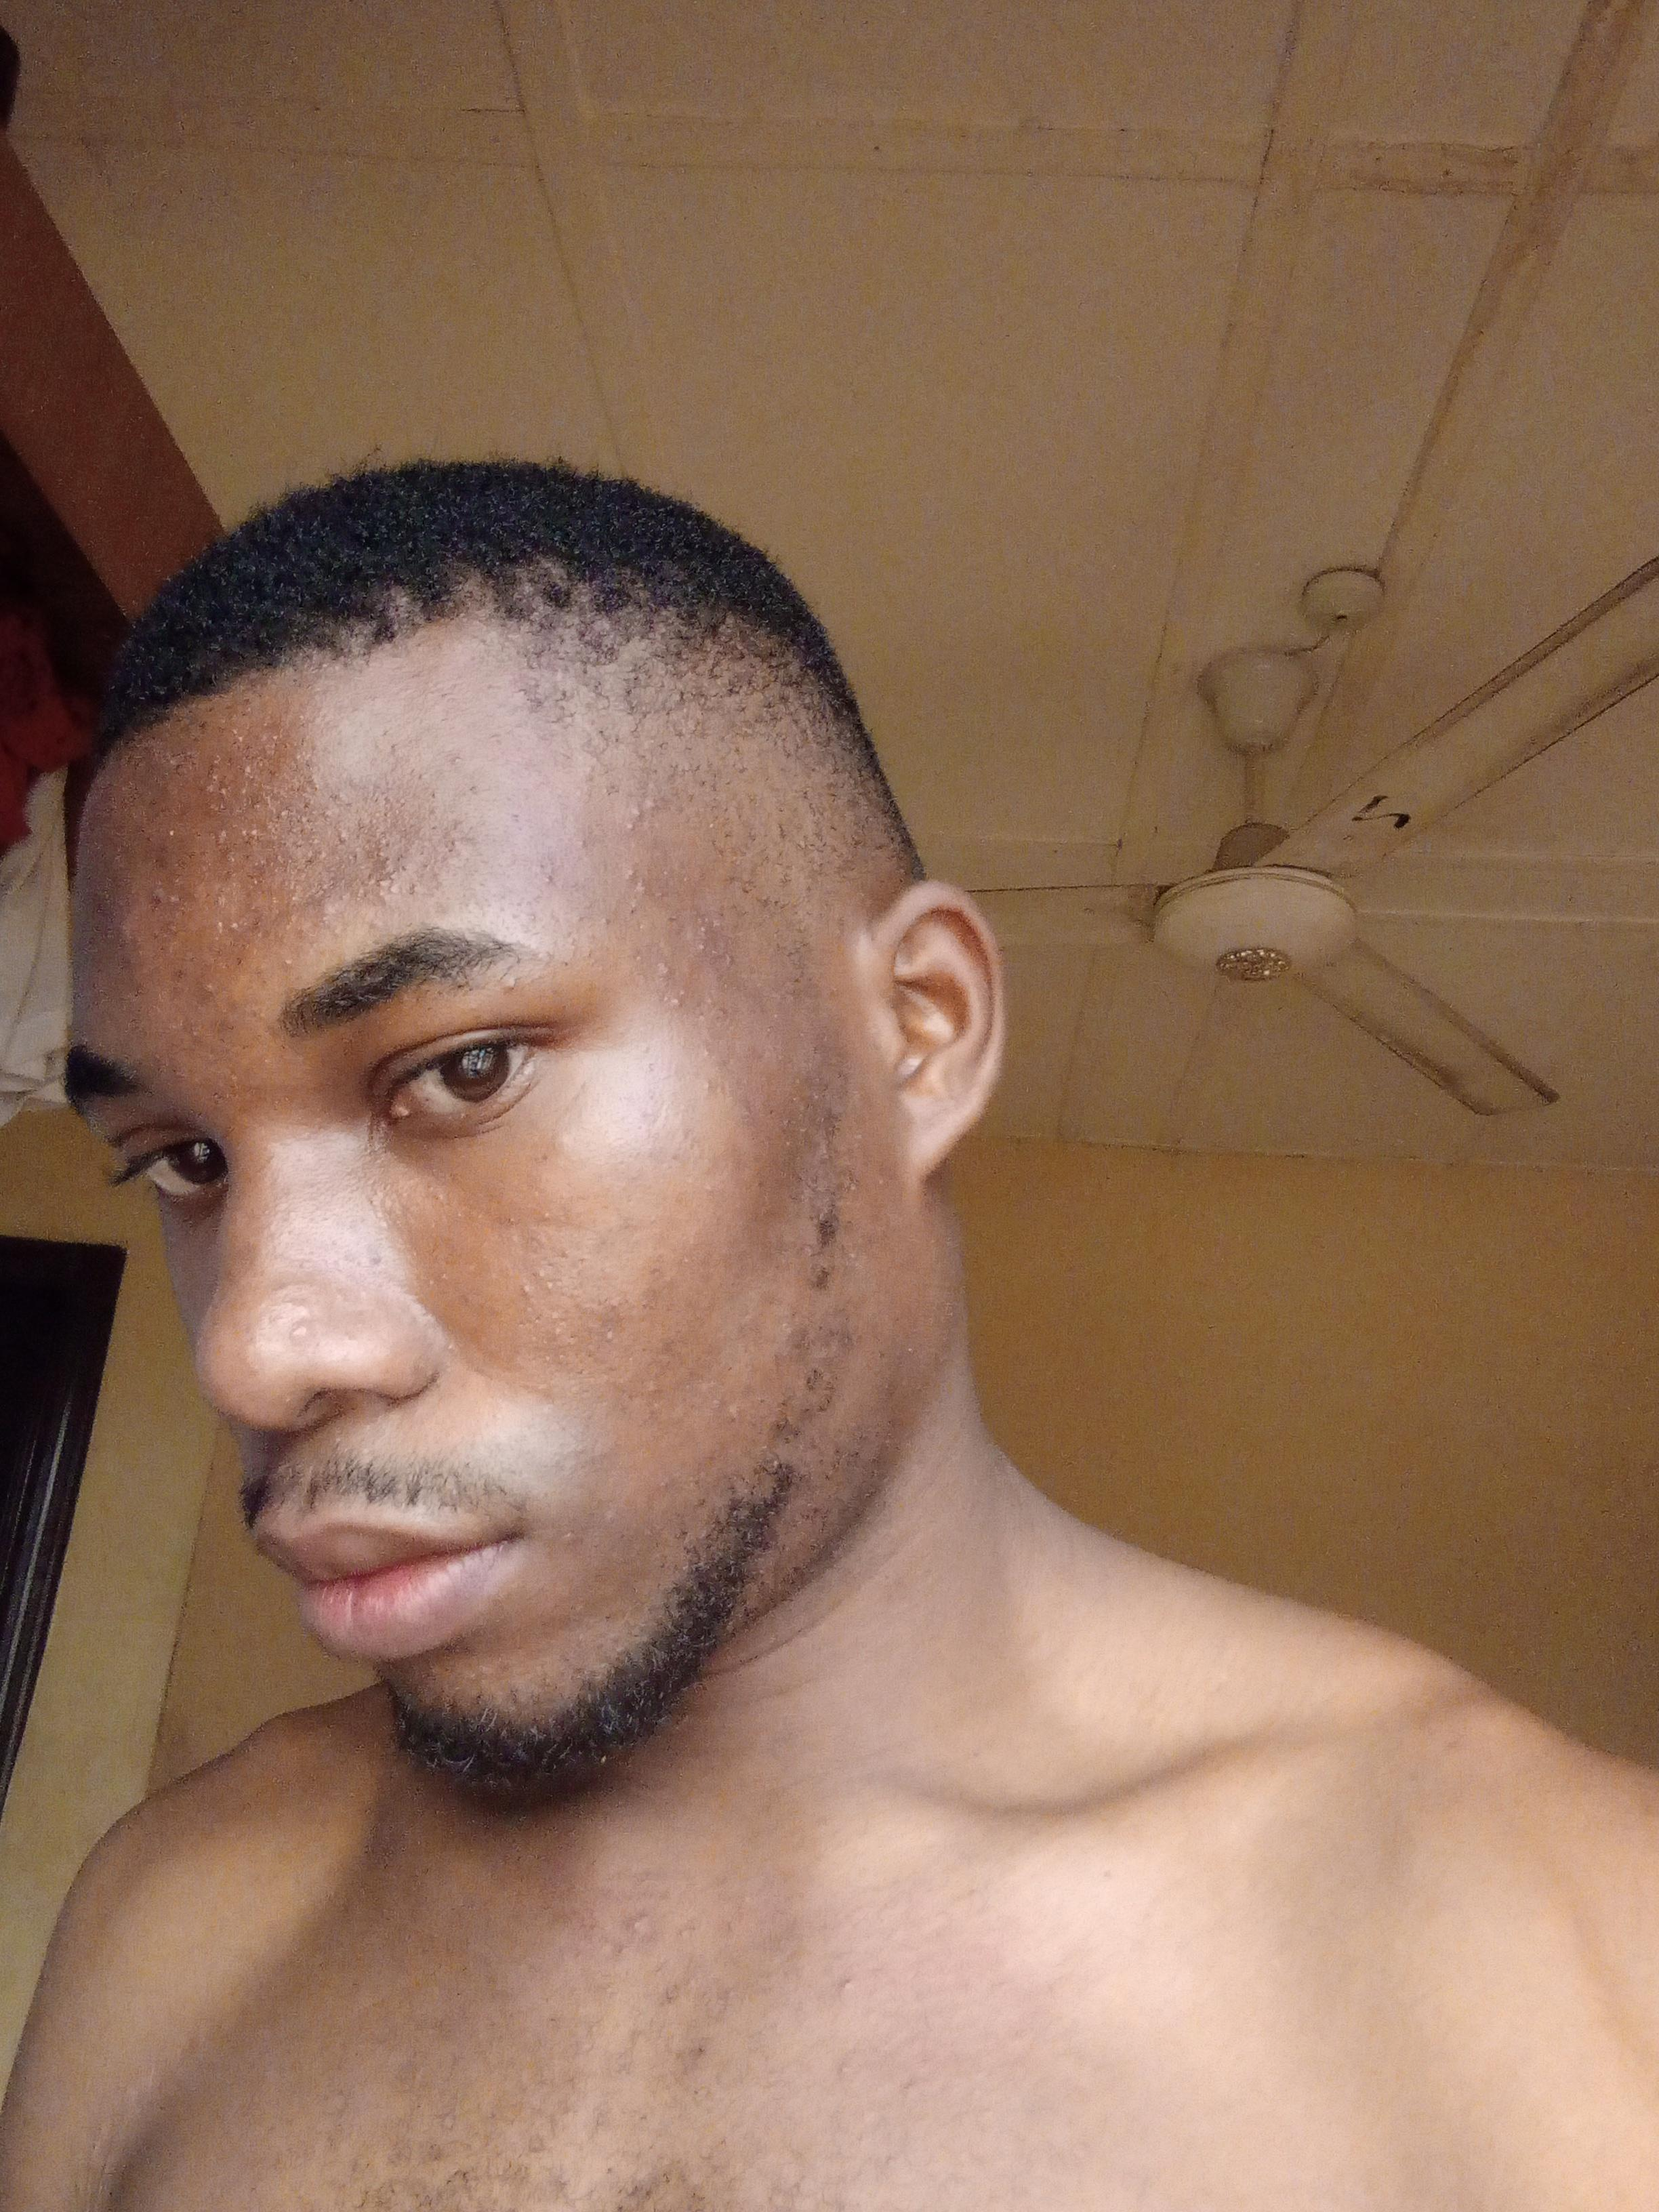Acne: (206, 838, 315, 881), (272, 1284, 321, 1350), (160, 716, 213, 775), (681, 913, 741, 958), (641, 953, 685, 1014), (141, 794, 174, 871), (253, 782, 312, 824), (624, 855, 652, 941), (613, 786, 664, 829), (197, 761, 239, 805), (195, 916, 249, 942), (507, 1261, 544, 1296), (256, 881, 303, 907), (141, 881, 181, 911), (228, 725, 282, 745), (193, 975, 221, 1005), (237, 815, 265, 841), (711, 1000, 735, 1026), (495, 974, 525, 993), (274, 951, 298, 974), (533, 866, 565, 883), (556, 1524, 582, 1545), (573, 831, 587, 852)
Blackheads: (328, 766, 462, 906)
Englarged-Pores: (497, 1249, 617, 1379)
